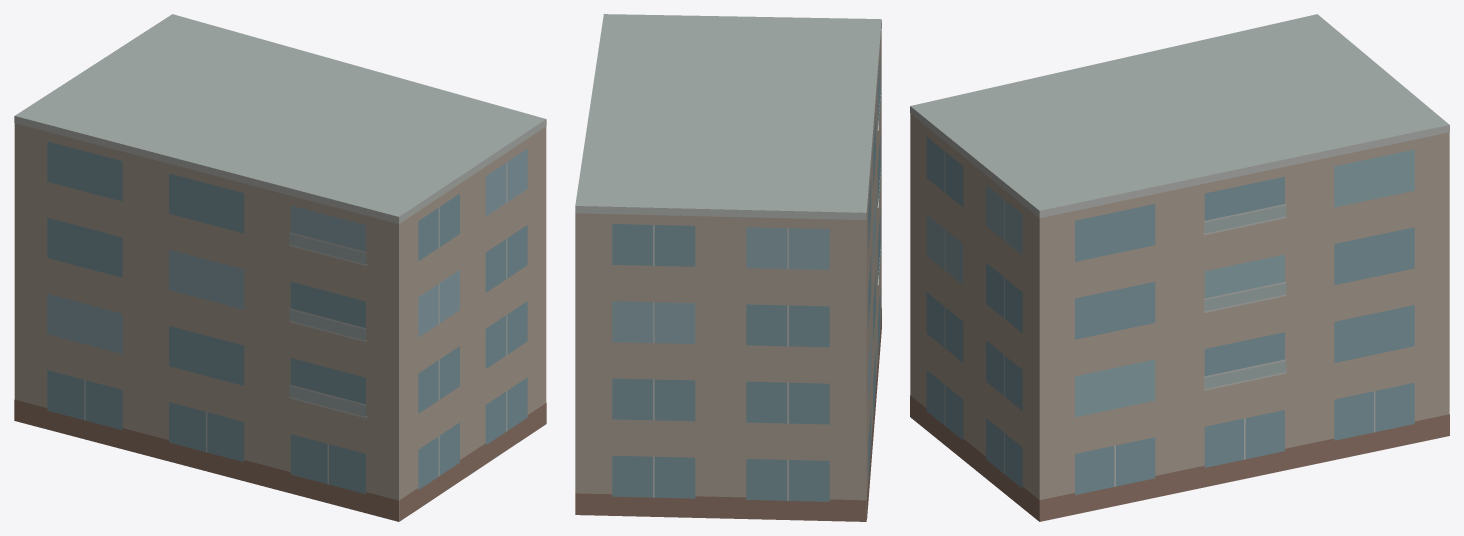
Rendered from survey-upis-32710316.glb.
3 views of the same model, side by side, from view 1: azimuth 30°, elevation 25°; view 2: azimuth 150°, elevation 25°; view 3: azimuth 270°, elevation 25° (orthographic).
Parts seen in each view (by area): view 1: survey-upis-32710316.tmp; view 2: survey-upis-32710316.tmp; view 3: survey-upis-32710316.tmp.
Boxes of the visible parts, x1,y1,x2,y2 form: survey-upis-32710316.tmp: (14,14,546,521); survey-upis-32710316.tmp: (575,14,881,521); survey-upis-32710316.tmp: (910,14,1449,521).
Size of the model in its own units: 14 by 10.3 by 16.21.
